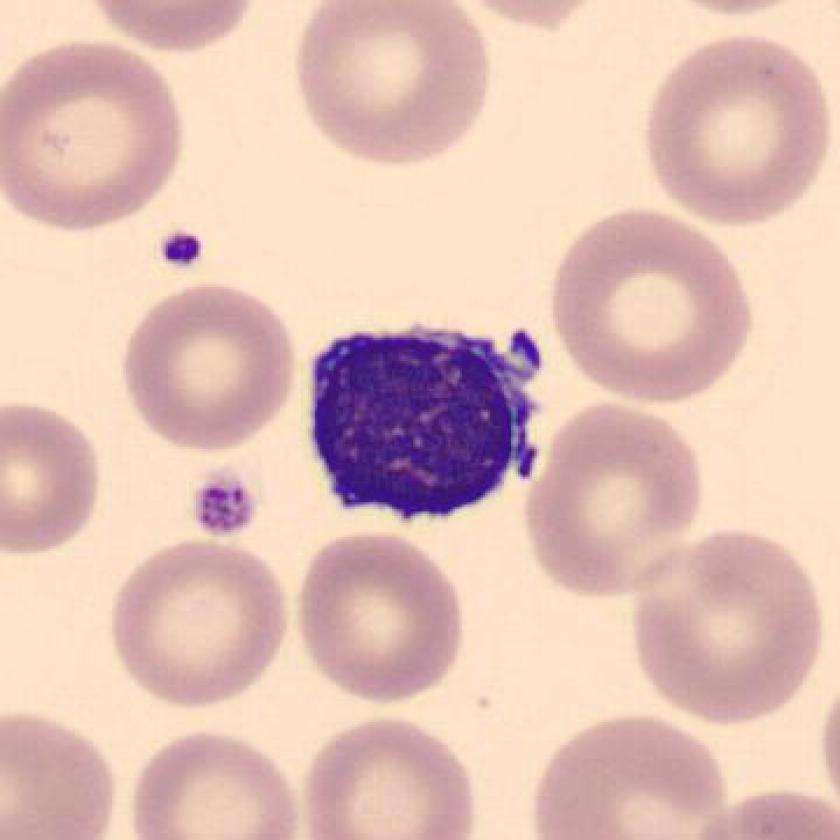lymphocyte: (300, 309, 559, 536)
